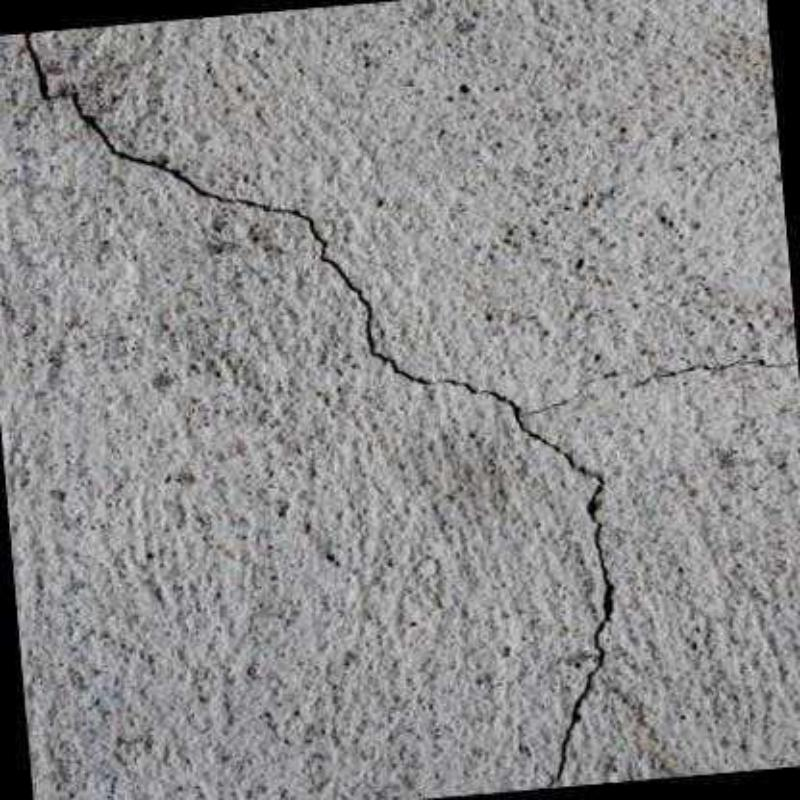crack: (25, 33, 616, 793), (633, 358, 799, 387), (521, 373, 617, 417)
